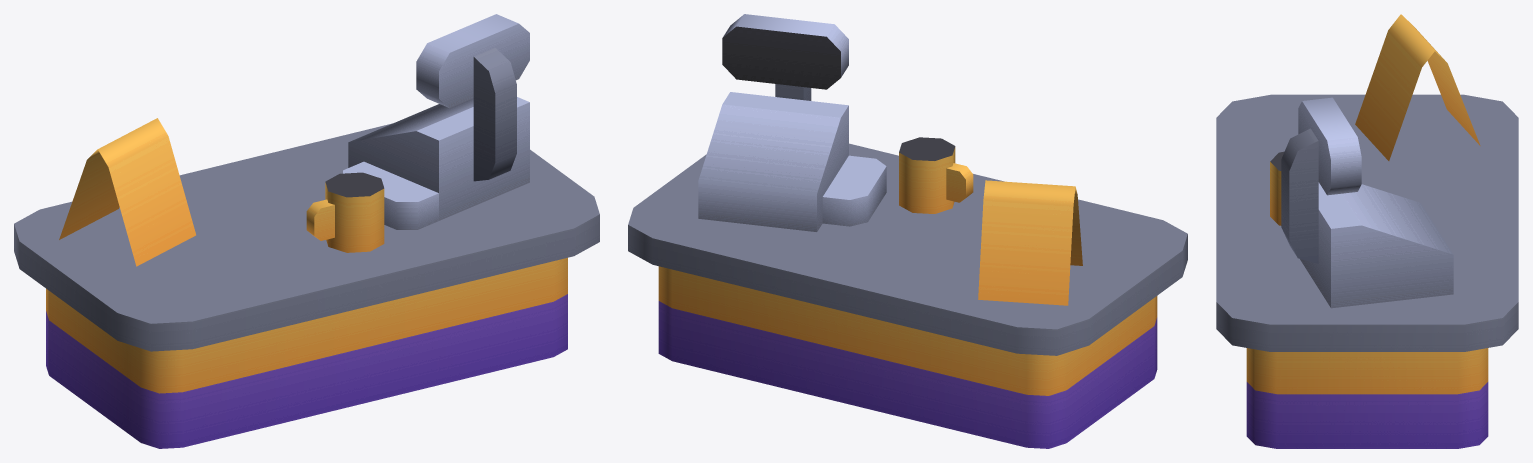
Rendered from cash-register.glb.
3 renders of one model, left to right at view 1: azimuth 30°, elevation 25°; view 2: azimuth 150°, elevation 25°; view 3: azimuth 270°, elevation 25°, orthographic. The views are drawn at different scales.
Visible parts, largest first — view 1: cash-register; view 2: cash-register; view 3: cash-register.
Part boxes in pixels (x1,y1,x2,y2): cash-register: (14, 14, 599, 448); cash-register: (628, 14, 1187, 448); cash-register: (1216, 14, 1518, 448).
Bounding box in the file's own units: 0.9 × 0.5449 × 0.5.
Materials: 1 (1 with a texture image).
